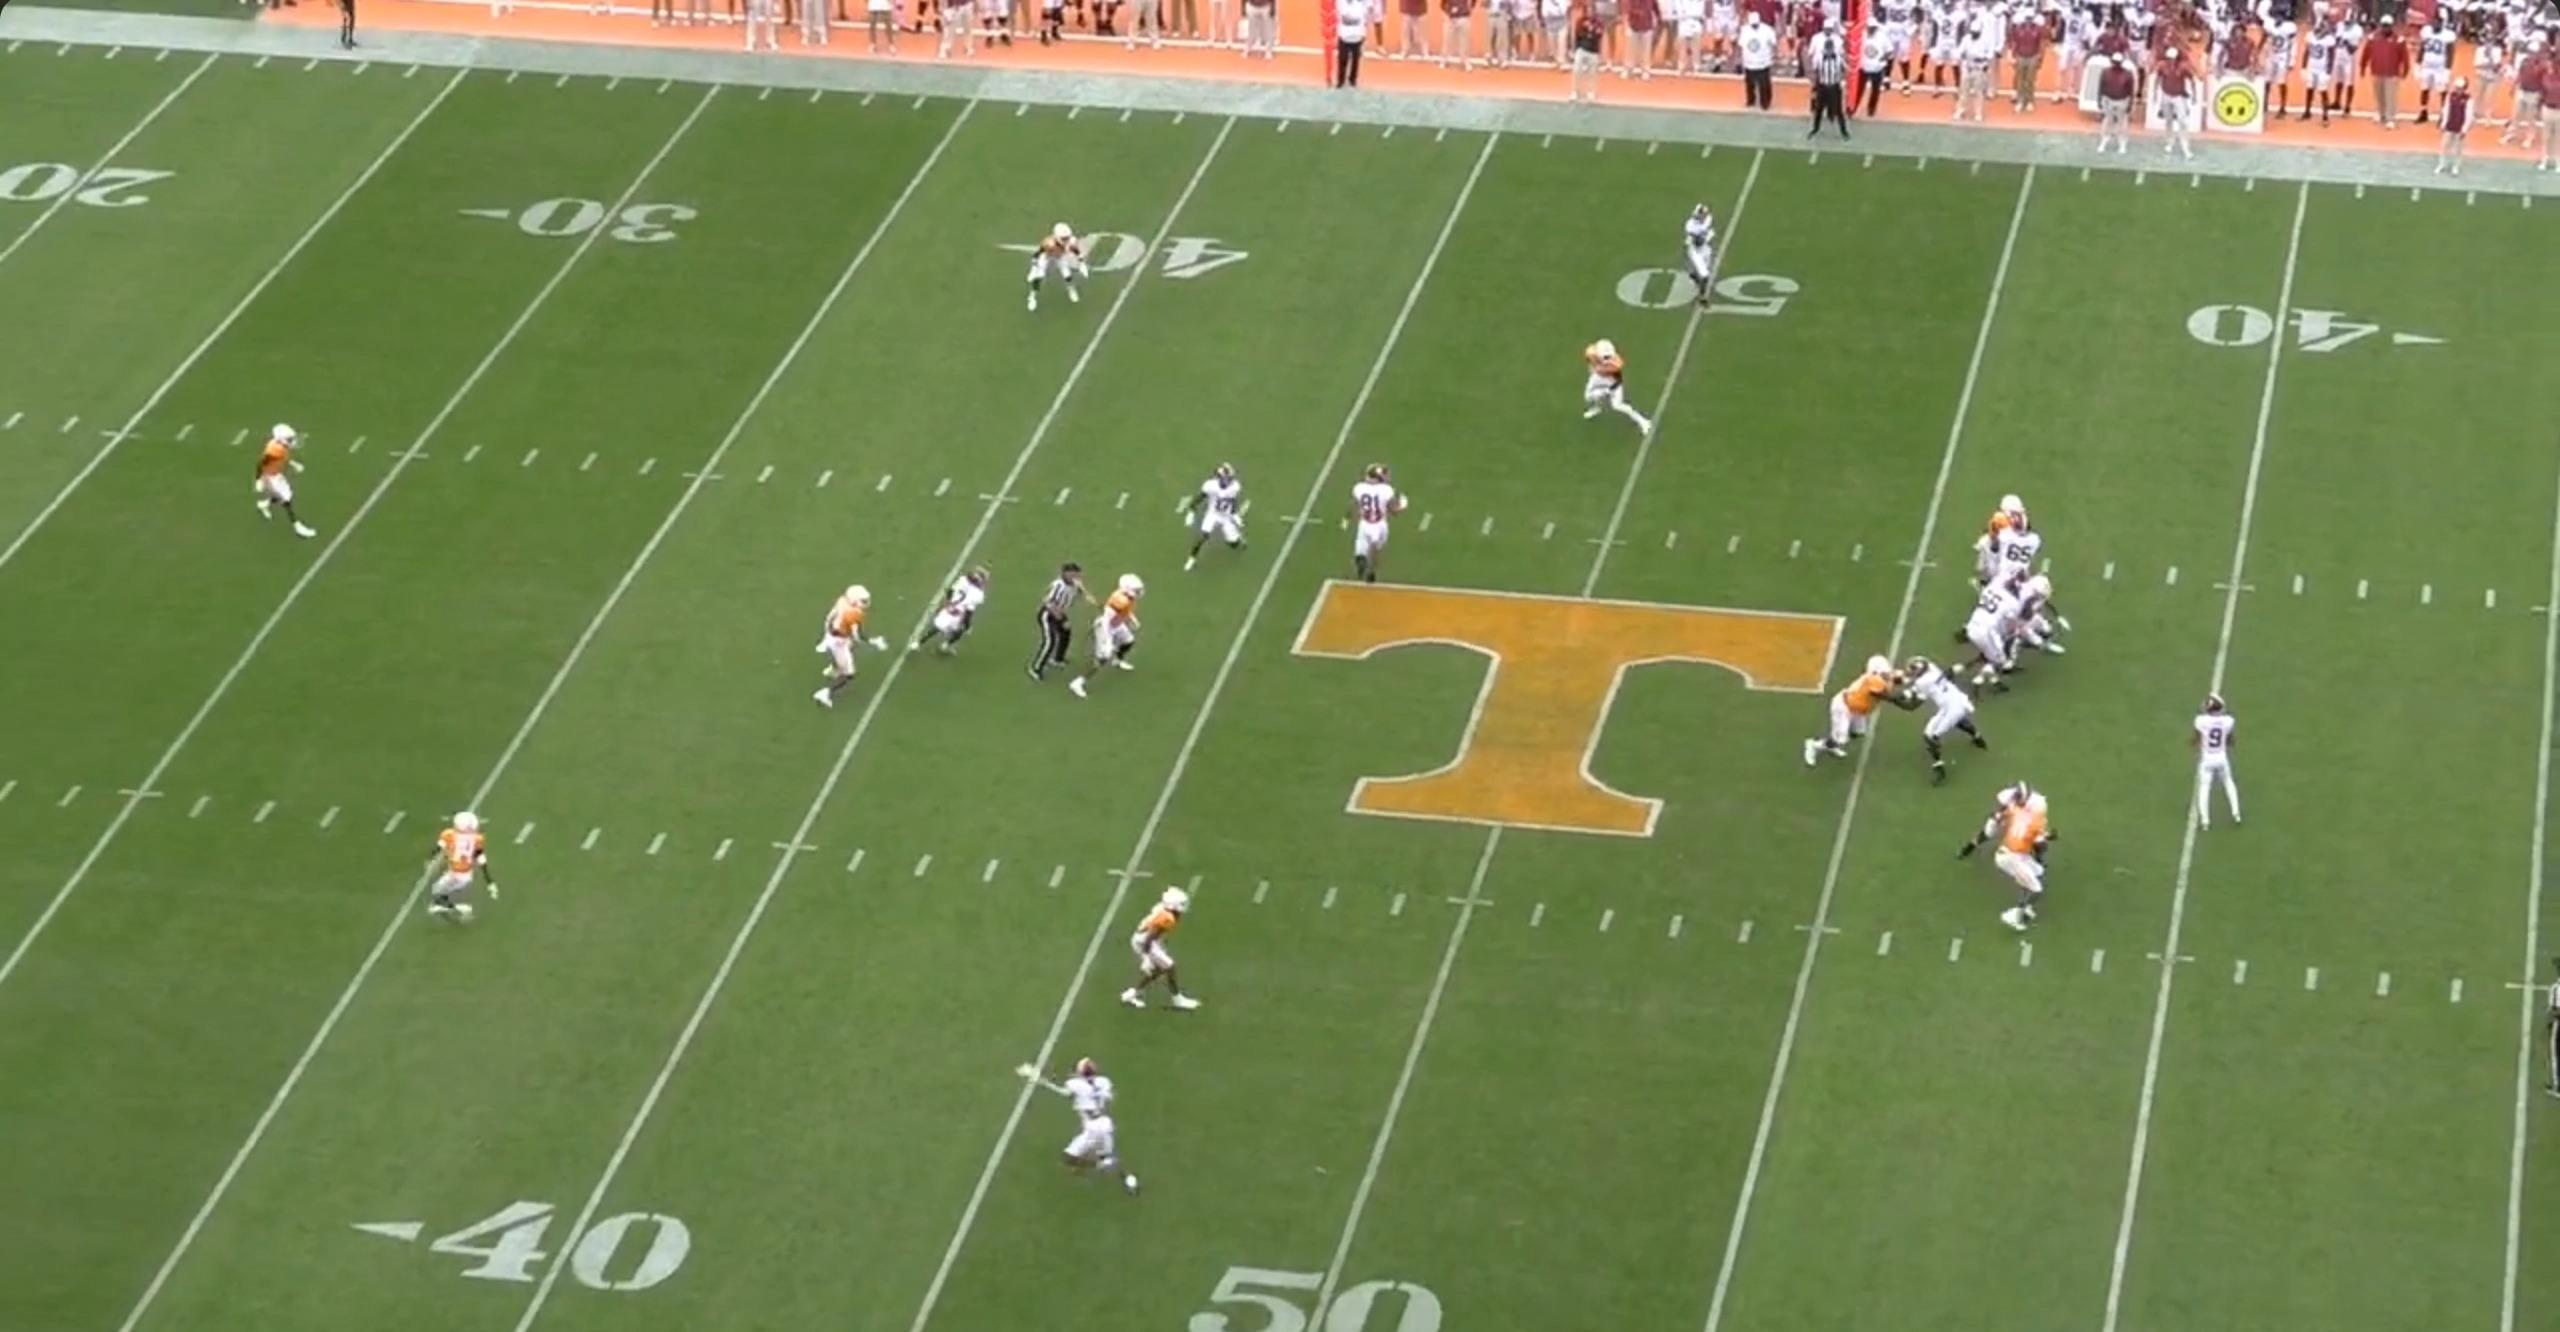defense: (1123, 882, 1214, 1026), (1791, 657, 1895, 779), (813, 584, 894, 721), (1986, 787, 2055, 943), (1080, 574, 1156, 709), (413, 807, 491, 933), (239, 420, 310, 547), (1570, 337, 1654, 440), (1024, 223, 1097, 322), (2017, 575, 2077, 663), (1971, 493, 2027, 565)
oline: (1898, 650, 1994, 782), (1954, 574, 2030, 701), (1949, 782, 2044, 873), (1986, 520, 2042, 569)
qb: (2186, 692, 2259, 834)
ref: (1031, 557, 1095, 696), (1790, 25, 1854, 146)
skill: (1016, 1049, 1156, 1205), (1339, 464, 1412, 594), (904, 562, 994, 658), (1180, 460, 1251, 574), (1664, 203, 1722, 315)
